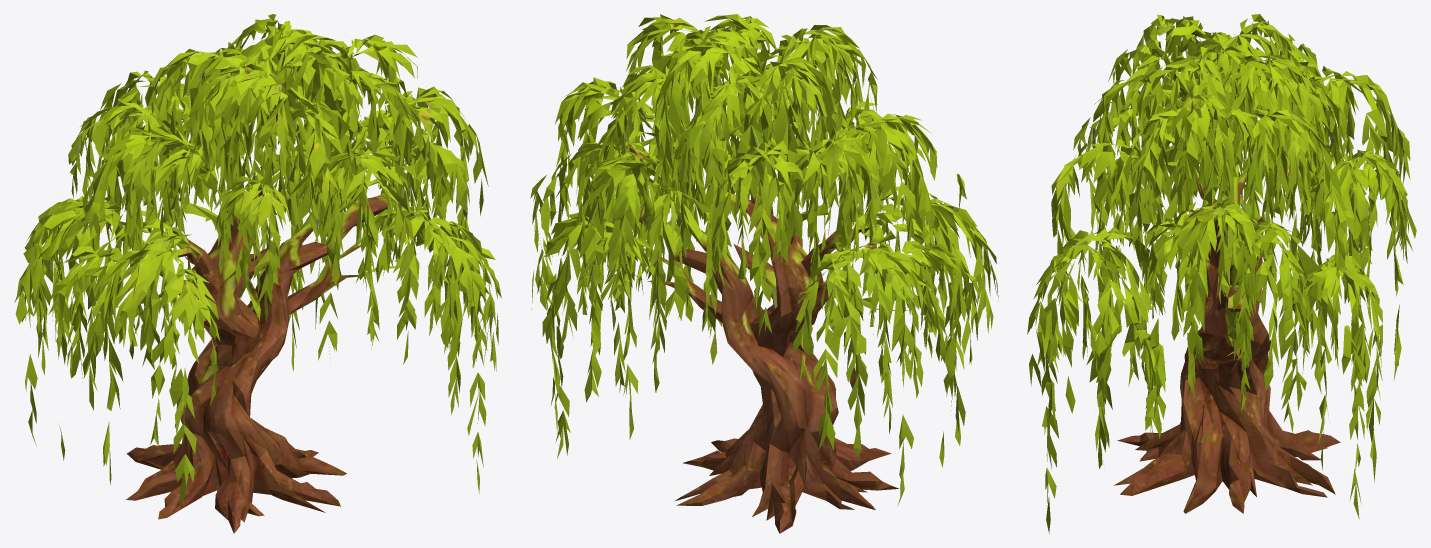
The model's file is lib_tp_lieutang.near.glb.
3 renders of one model, left to right at view 1: azimuth 30°, elevation 25°; view 2: azimuth 150°, elevation 25°; view 3: azimuth 270°, elevation 25°, orthographic. The views are drawn at different scales.
Parts seen in each view (by area): view 1: output_unwrapped; view 2: output_unwrapped; view 3: output_unwrapped.
Part boxes in pixels (box(x1,y1,x2,y2)): output_unwrapped: box(14, 14, 501, 533); output_unwrapped: box(530, 14, 998, 533); output_unwrapped: box(1027, 14, 1416, 533).
Bounding box in the file's own units: 1.89 × 1.87 × 1.46.
1 material, 1 textured.
